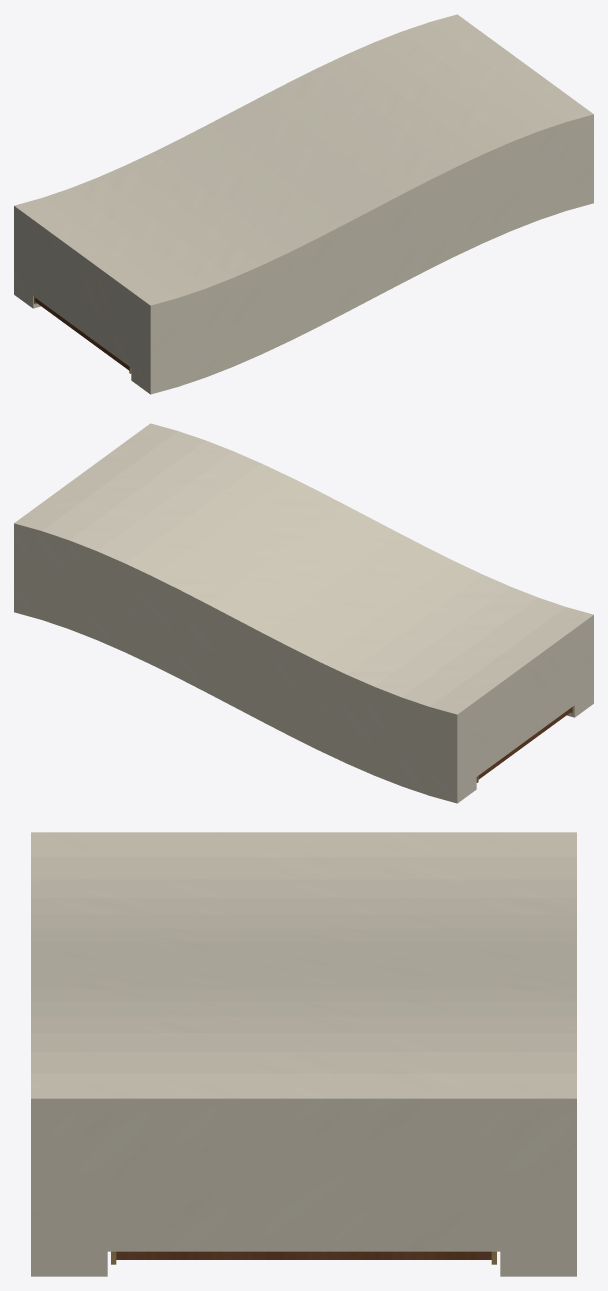
Rendered from AST-SAL-002.glb.
3 views of the same model, one above another, from view 1: azimuth 30°, elevation 25°; view 2: azimuth 150°, elevation 25°; view 3: azimuth 270°, elevation 25° (orthographic). The views are drawn at different scales.
Visible parts, largest first — view 1: AST-SAL-002__ivory_enamel; view 2: AST-SAL-002__ivory_enamel; view 3: AST-SAL-002__ivory_enamel, AST-SAL-002__warm_walnut.
Part boxes in pixels (box(x1,y1,x2,y2)): AST-SAL-002__ivory_enamel: box(14, 14, 593, 394); AST-SAL-002__ivory_enamel: box(14, 423, 593, 803); AST-SAL-002__ivory_enamel: box(31, 832, 576, 1276); AST-SAL-002__warm_walnut: box(116, 1251, 491, 1259).
Bounding box in the file's own units: 2.4 × 0.89 × 1.28.
3 materials, 3 textured.
